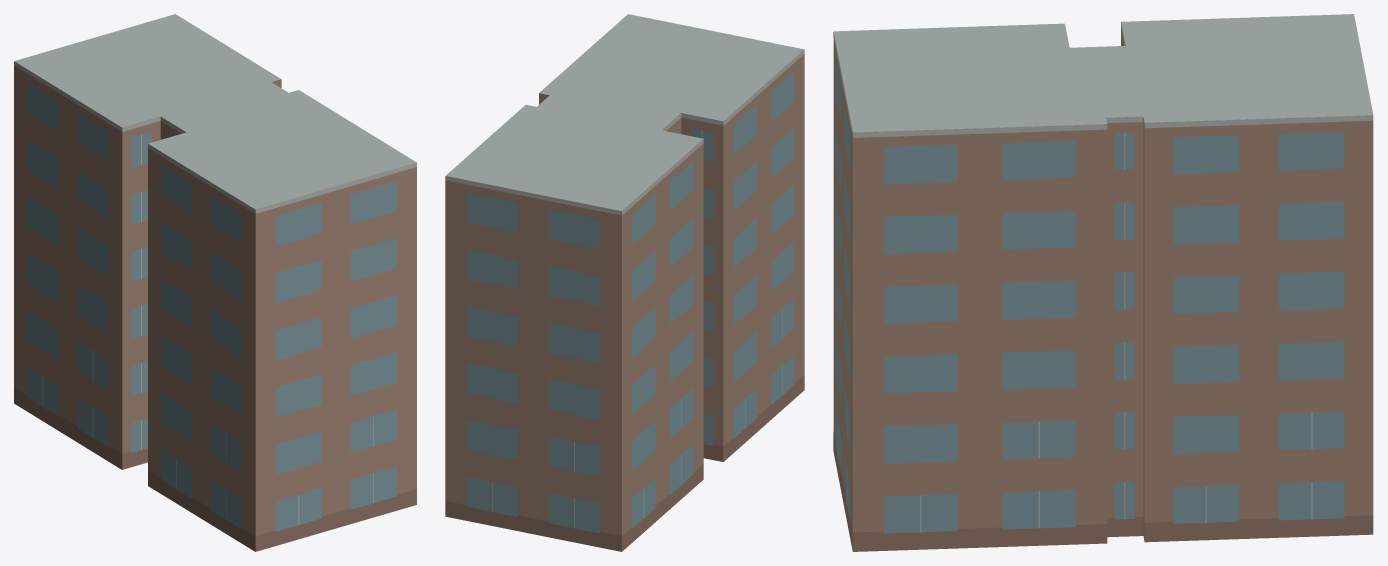
Rendered from survey-upis-32701302.glb.
The picture shows the model from 3 angles, left to right: view 1: azimuth 30°, elevation 25°; view 2: azimuth 150°, elevation 25°; view 3: azimuth 270°, elevation 25°; orthographic projection. The views are drawn at different scales.
Parts seen in each view (by area): view 1: survey-upis-32701302.tmp; view 2: survey-upis-32701302.tmp; view 3: survey-upis-32701302.tmp.
Part boxes in pixels (<box>): survey-upis-32701302.tmp: <box>14,14,416,551</box>; survey-upis-32701302.tmp: <box>445,14,804,551</box>; survey-upis-32701302.tmp: <box>833,14,1373,551</box>.
Bounding box in the file's own units: 11.28 × 18.6 × 21.72.
